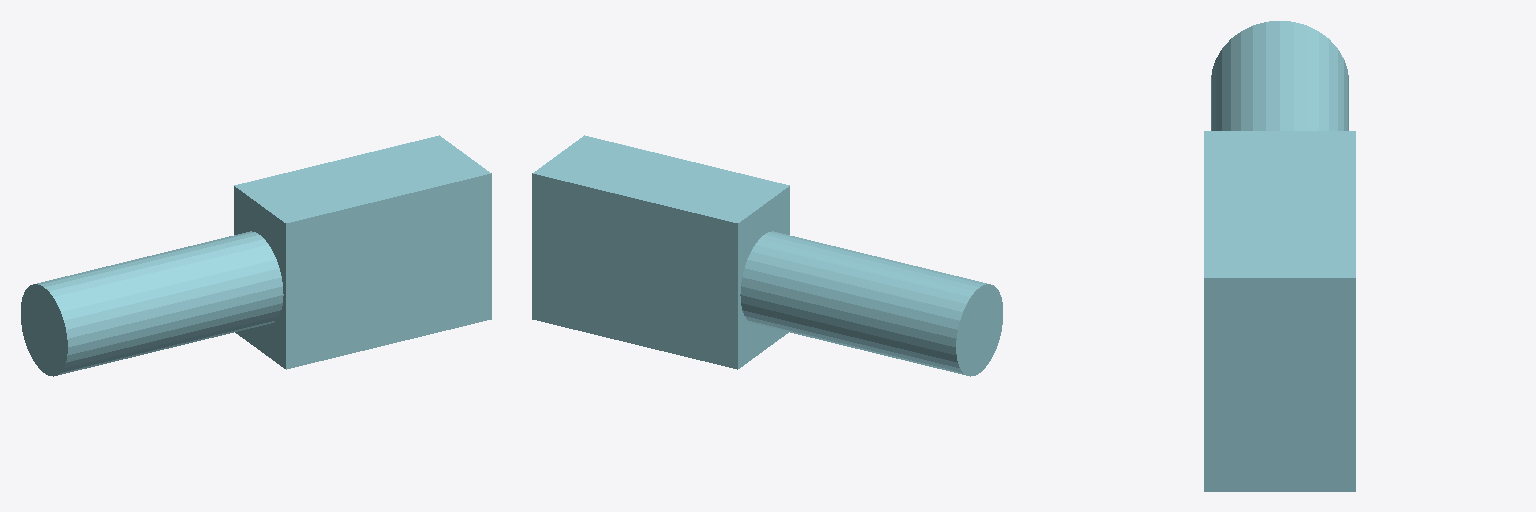
The robot description file, URDF, robot "cylinder_brush_v9013":
<?xml version="1.0"?>
<robot name="cylinder_brush_v9013">

  <link name="cylinder_brush_v9013">
    <!-- Handle -->
    <visual>
      <origin xyz="0 0 0" rpy="0 1.5707963267948966 0"/>
      <geometry>
        <cylinder length="0.1068579042555958" radius="0.02034038973698858"/>
      </geometry>
      <material name="material">
        <color rgba="0.639 0.847 0.882 1.0"/>
      </material>
    </visual>
    <collision>
      <origin xyz="0 0 0" rpy="0 1.5707963267948966 0"/>
      <geometry>
        <cylinder length="0.1068579042555958" radius="0.02034038973698858"/>
      </geometry>
    </collision>

    <!-- Head -->
    <visual>
      <origin xyz="0.10438902649598862 0 0" rpy="0 0 0"/>
      <geometry>
        <box size="0.10192014873638144 0.04462271953305591 0.06914800650130425"/>
      </geometry>
      <material name="material">
        <color rgba="0.639 0.847 0.882 1.0"/>
      </material>
    </visual>
    <collision>
      <origin xyz="0.10438902649598862 0 0" rpy="0 0 0"/>
      <geometry>
        <box size="0.10192014873638144 0.04462271953305591 0.06914800650130425"/>
      </geometry>
    </collision>

    <inertial>
      <density value="400.0"/>
    </inertial>
  </link>

</robot>

--- Facts derived from the render (not from the file) ---
3 views of the same robot in one strip: view 1: azimuth 30°, elevation 25°; view 2: azimuth 150°, elevation 25°; view 3: azimuth 270°, elevation 25° (orthographic).
Robot: cylinder_brush_v9013 — 1 links, 0 joints (none); root link cylinder_brush_v9013; default pose: every joint at zero.
Links seen in each view (by area): view 1: cylinder_brush_v9013; view 2: cylinder_brush_v9013; view 3: cylinder_brush_v9013.
Boxes of the visible links, <box> form: cylinder_brush_v9013: <box>21,135,491,376</box>; cylinder_brush_v9013: <box>532,135,1002,376</box>; cylinder_brush_v9013: <box>1204,21,1355,491</box>.
Bounding box of the posed robot: 0.2088 × 0.0446 × 0.0691 m (x, y, z).
Geometry: primitives only (box / cylinder / sphere), no mesh files.
